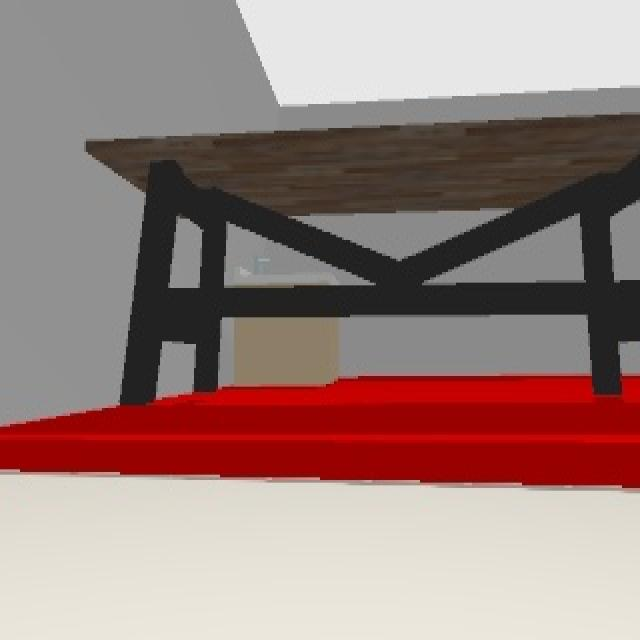dining: (90, 109, 640, 395)
